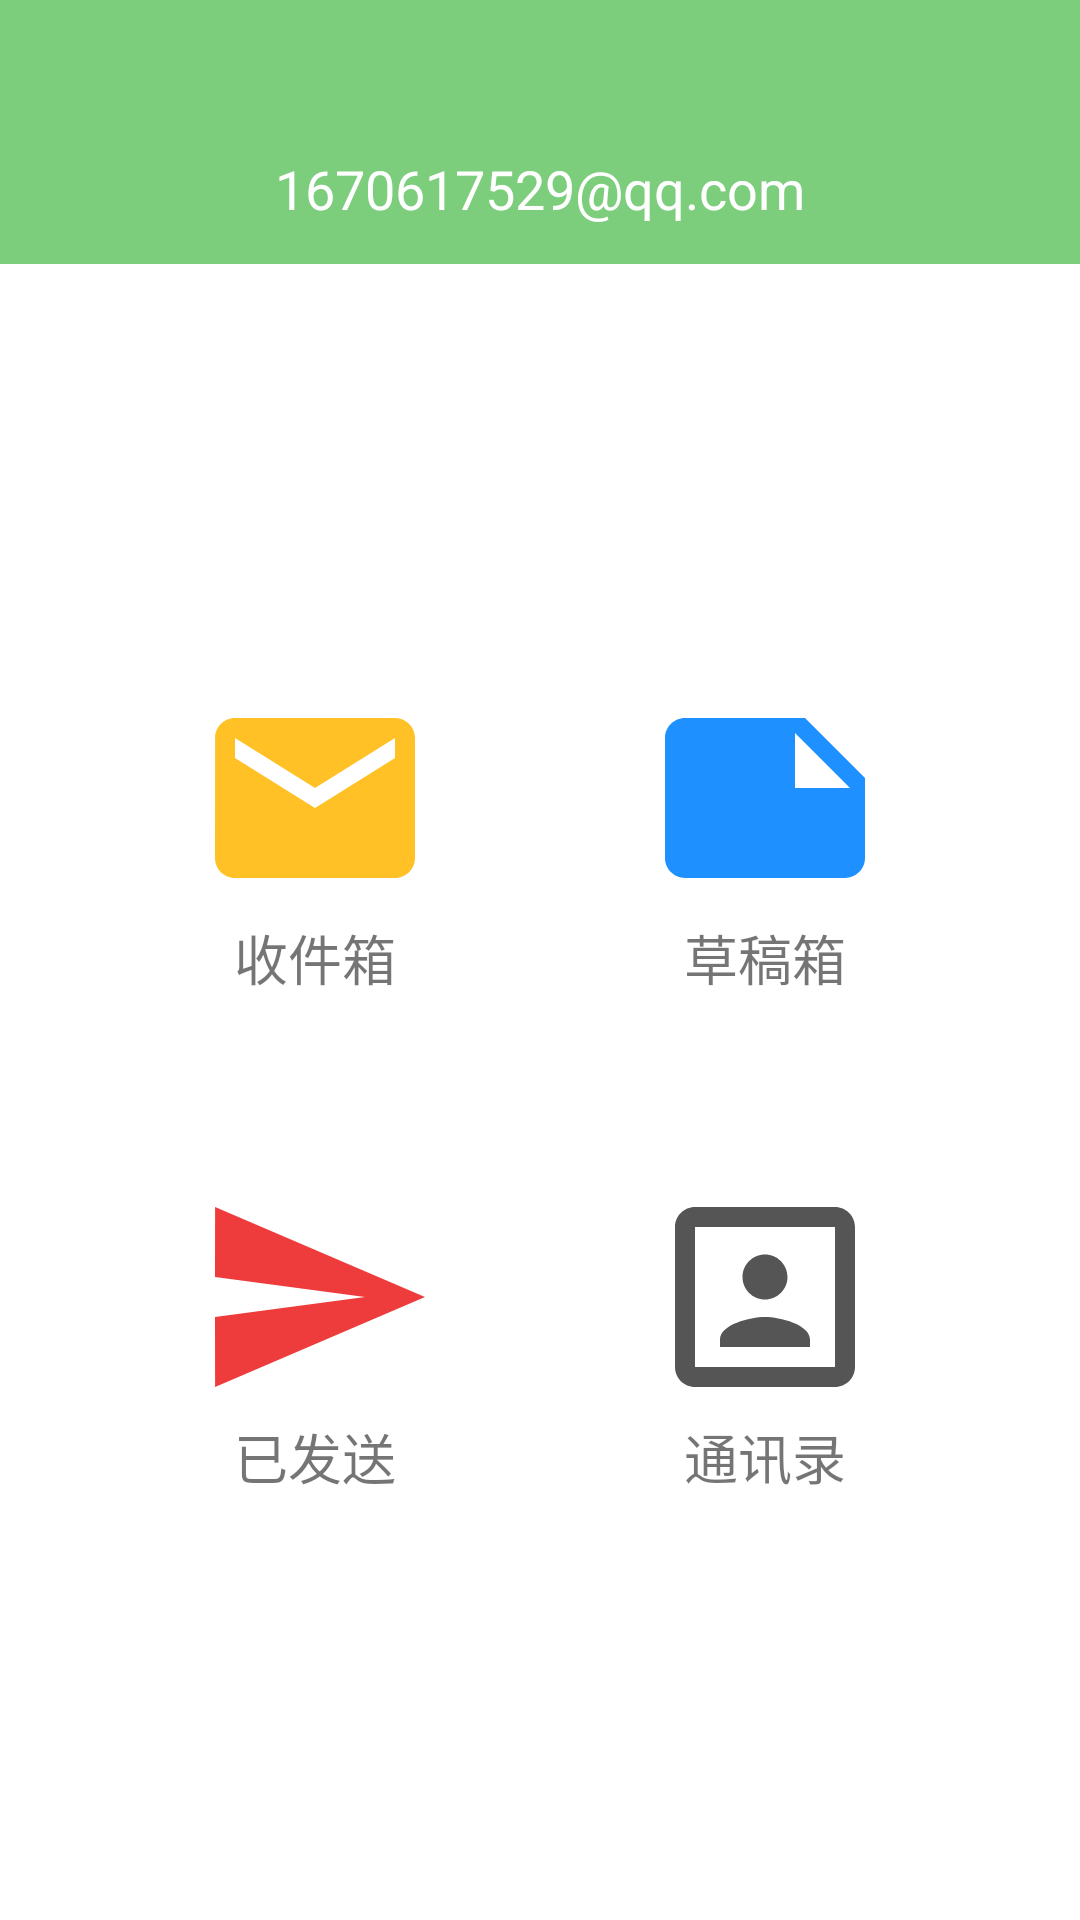

Where to tap for icons on this 1080 × 1920 app screen, as [x,y]:
email: [315,798]
note: [765,798]
portrait: [765,1297]
